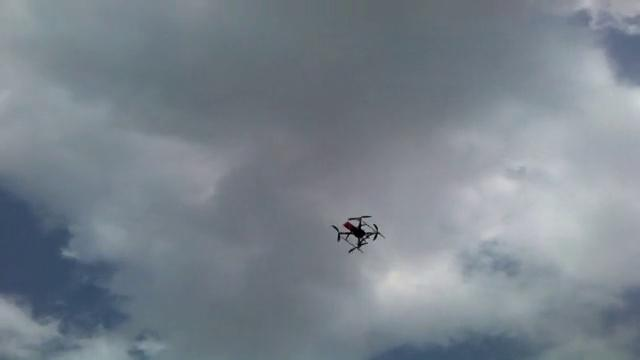drone: (329, 213, 382, 252)
